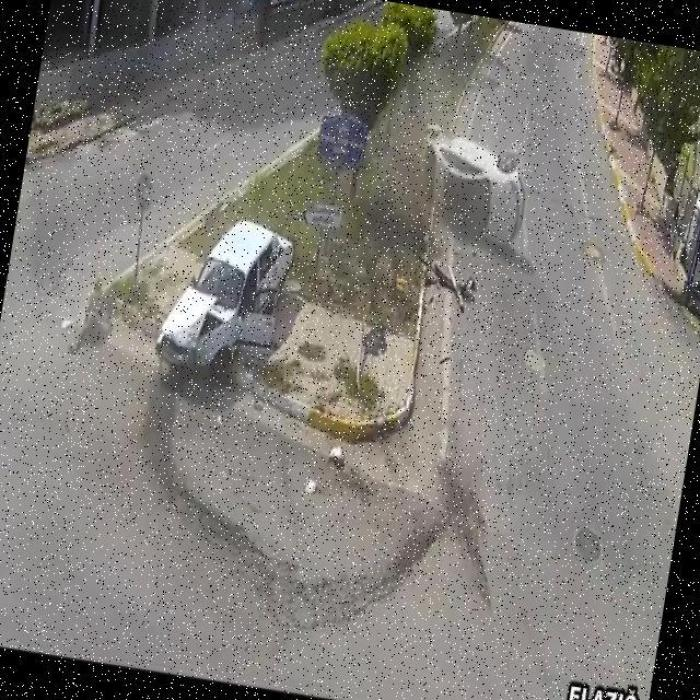Accident: (143, 188, 309, 397), (404, 109, 540, 258)
